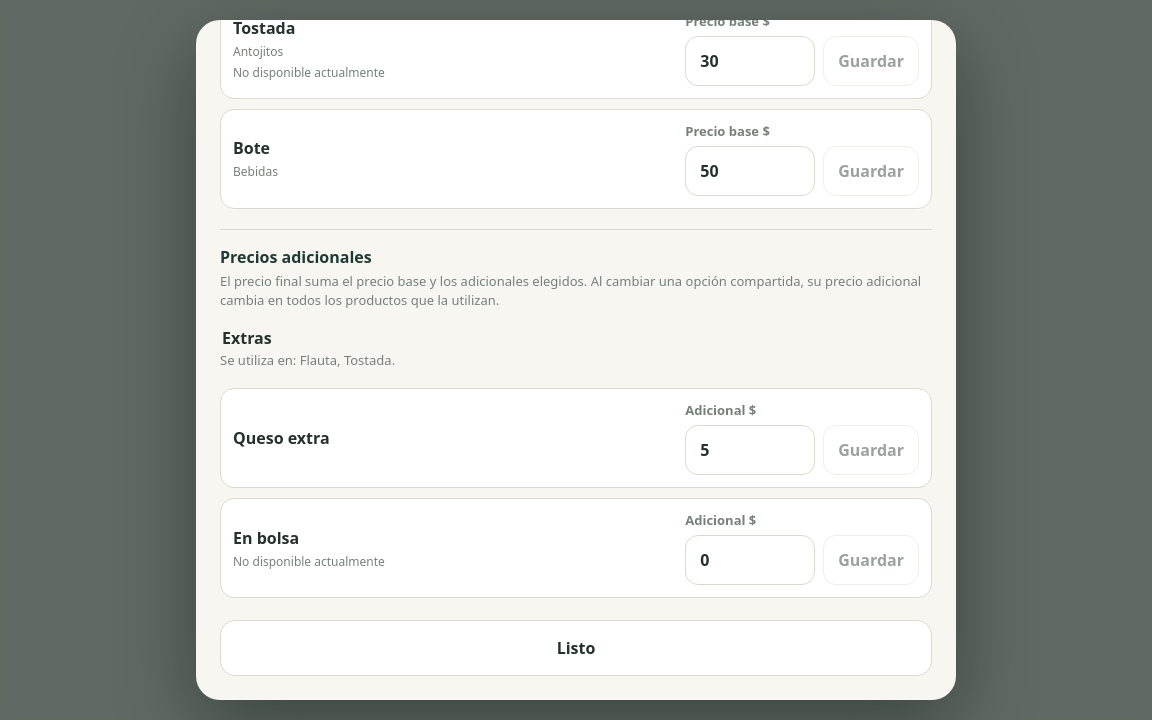
Test: CatalogPricesEditor › muestra una sola vez los extras compartidos y actualiza su recargo
(page scrolled)
Expected: the text "Se utiliza en: Flauta, Tostada." is shown, [220,351,395,369]
Expected: the text "su precio adicional cambia en todos los productos" is shown, [220,272,921,308]
Replace the text in the field named "Precio adicional de Queso extra" with "7.25". click: coordinates (750, 450)
box: [685,425,815,475]
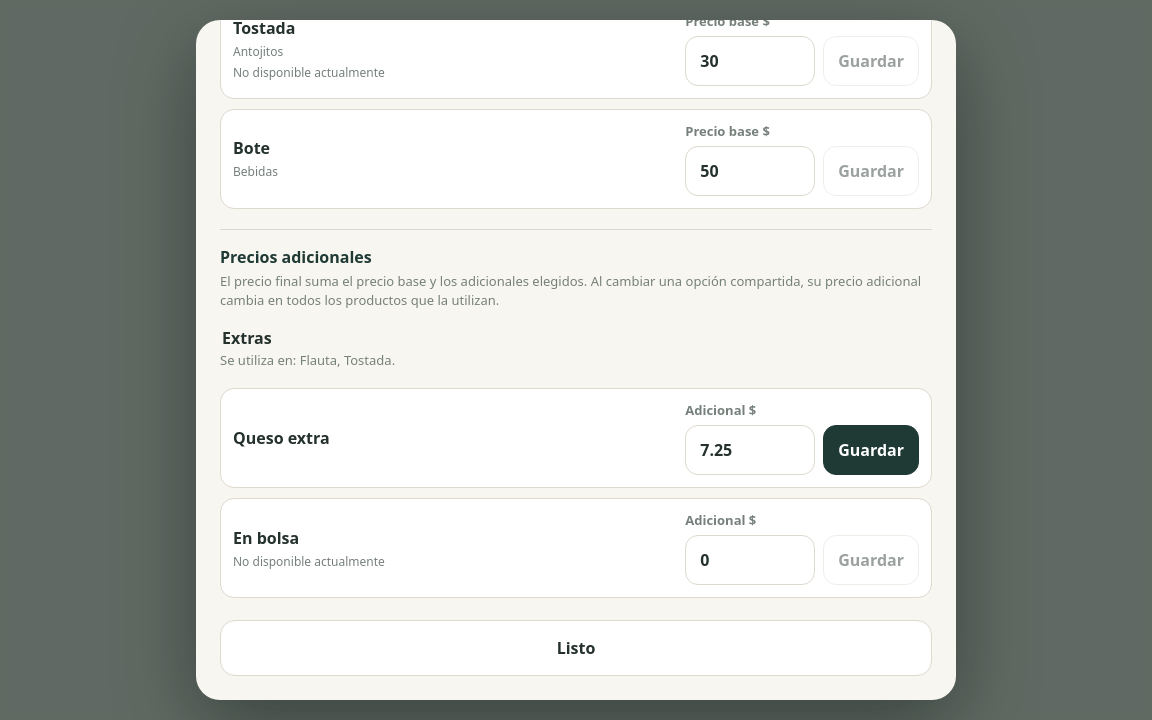
Click the button with aria-label "Guardar precio adicional de Queso extra". click: coordinates (871, 450)
box: [823,425,919,475]
(page scrolled)
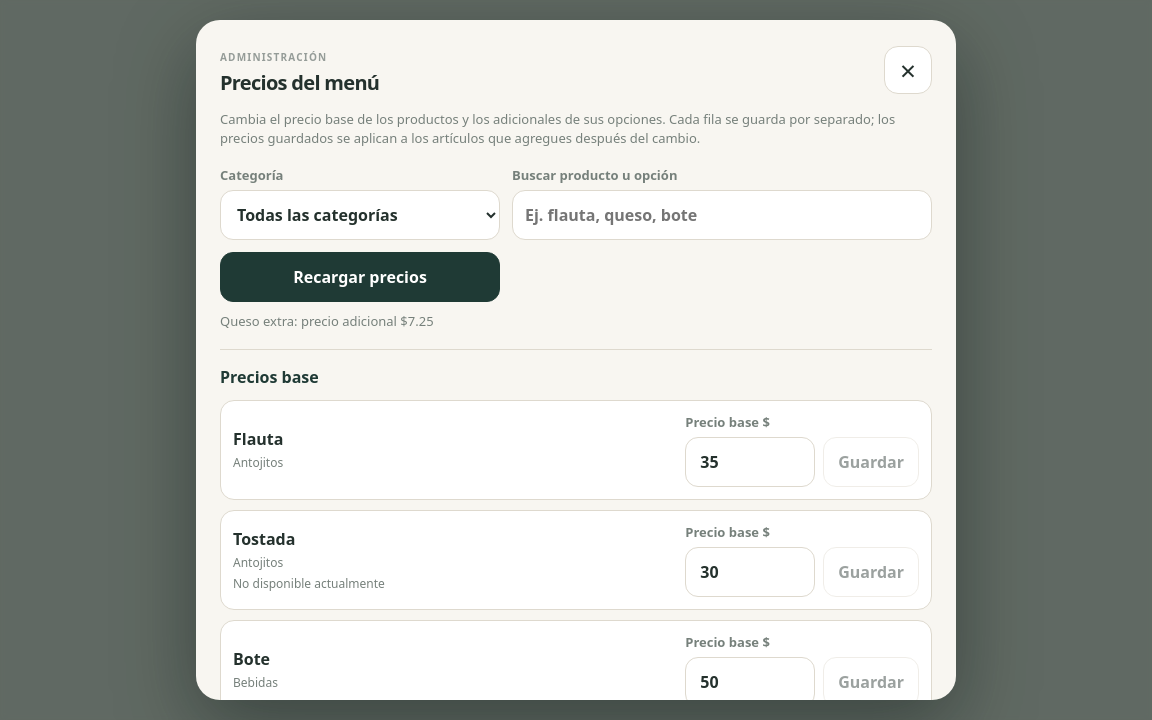
Expected: the message reads "Queso extra: precio adicional $7.25", [220,312,434,330]
